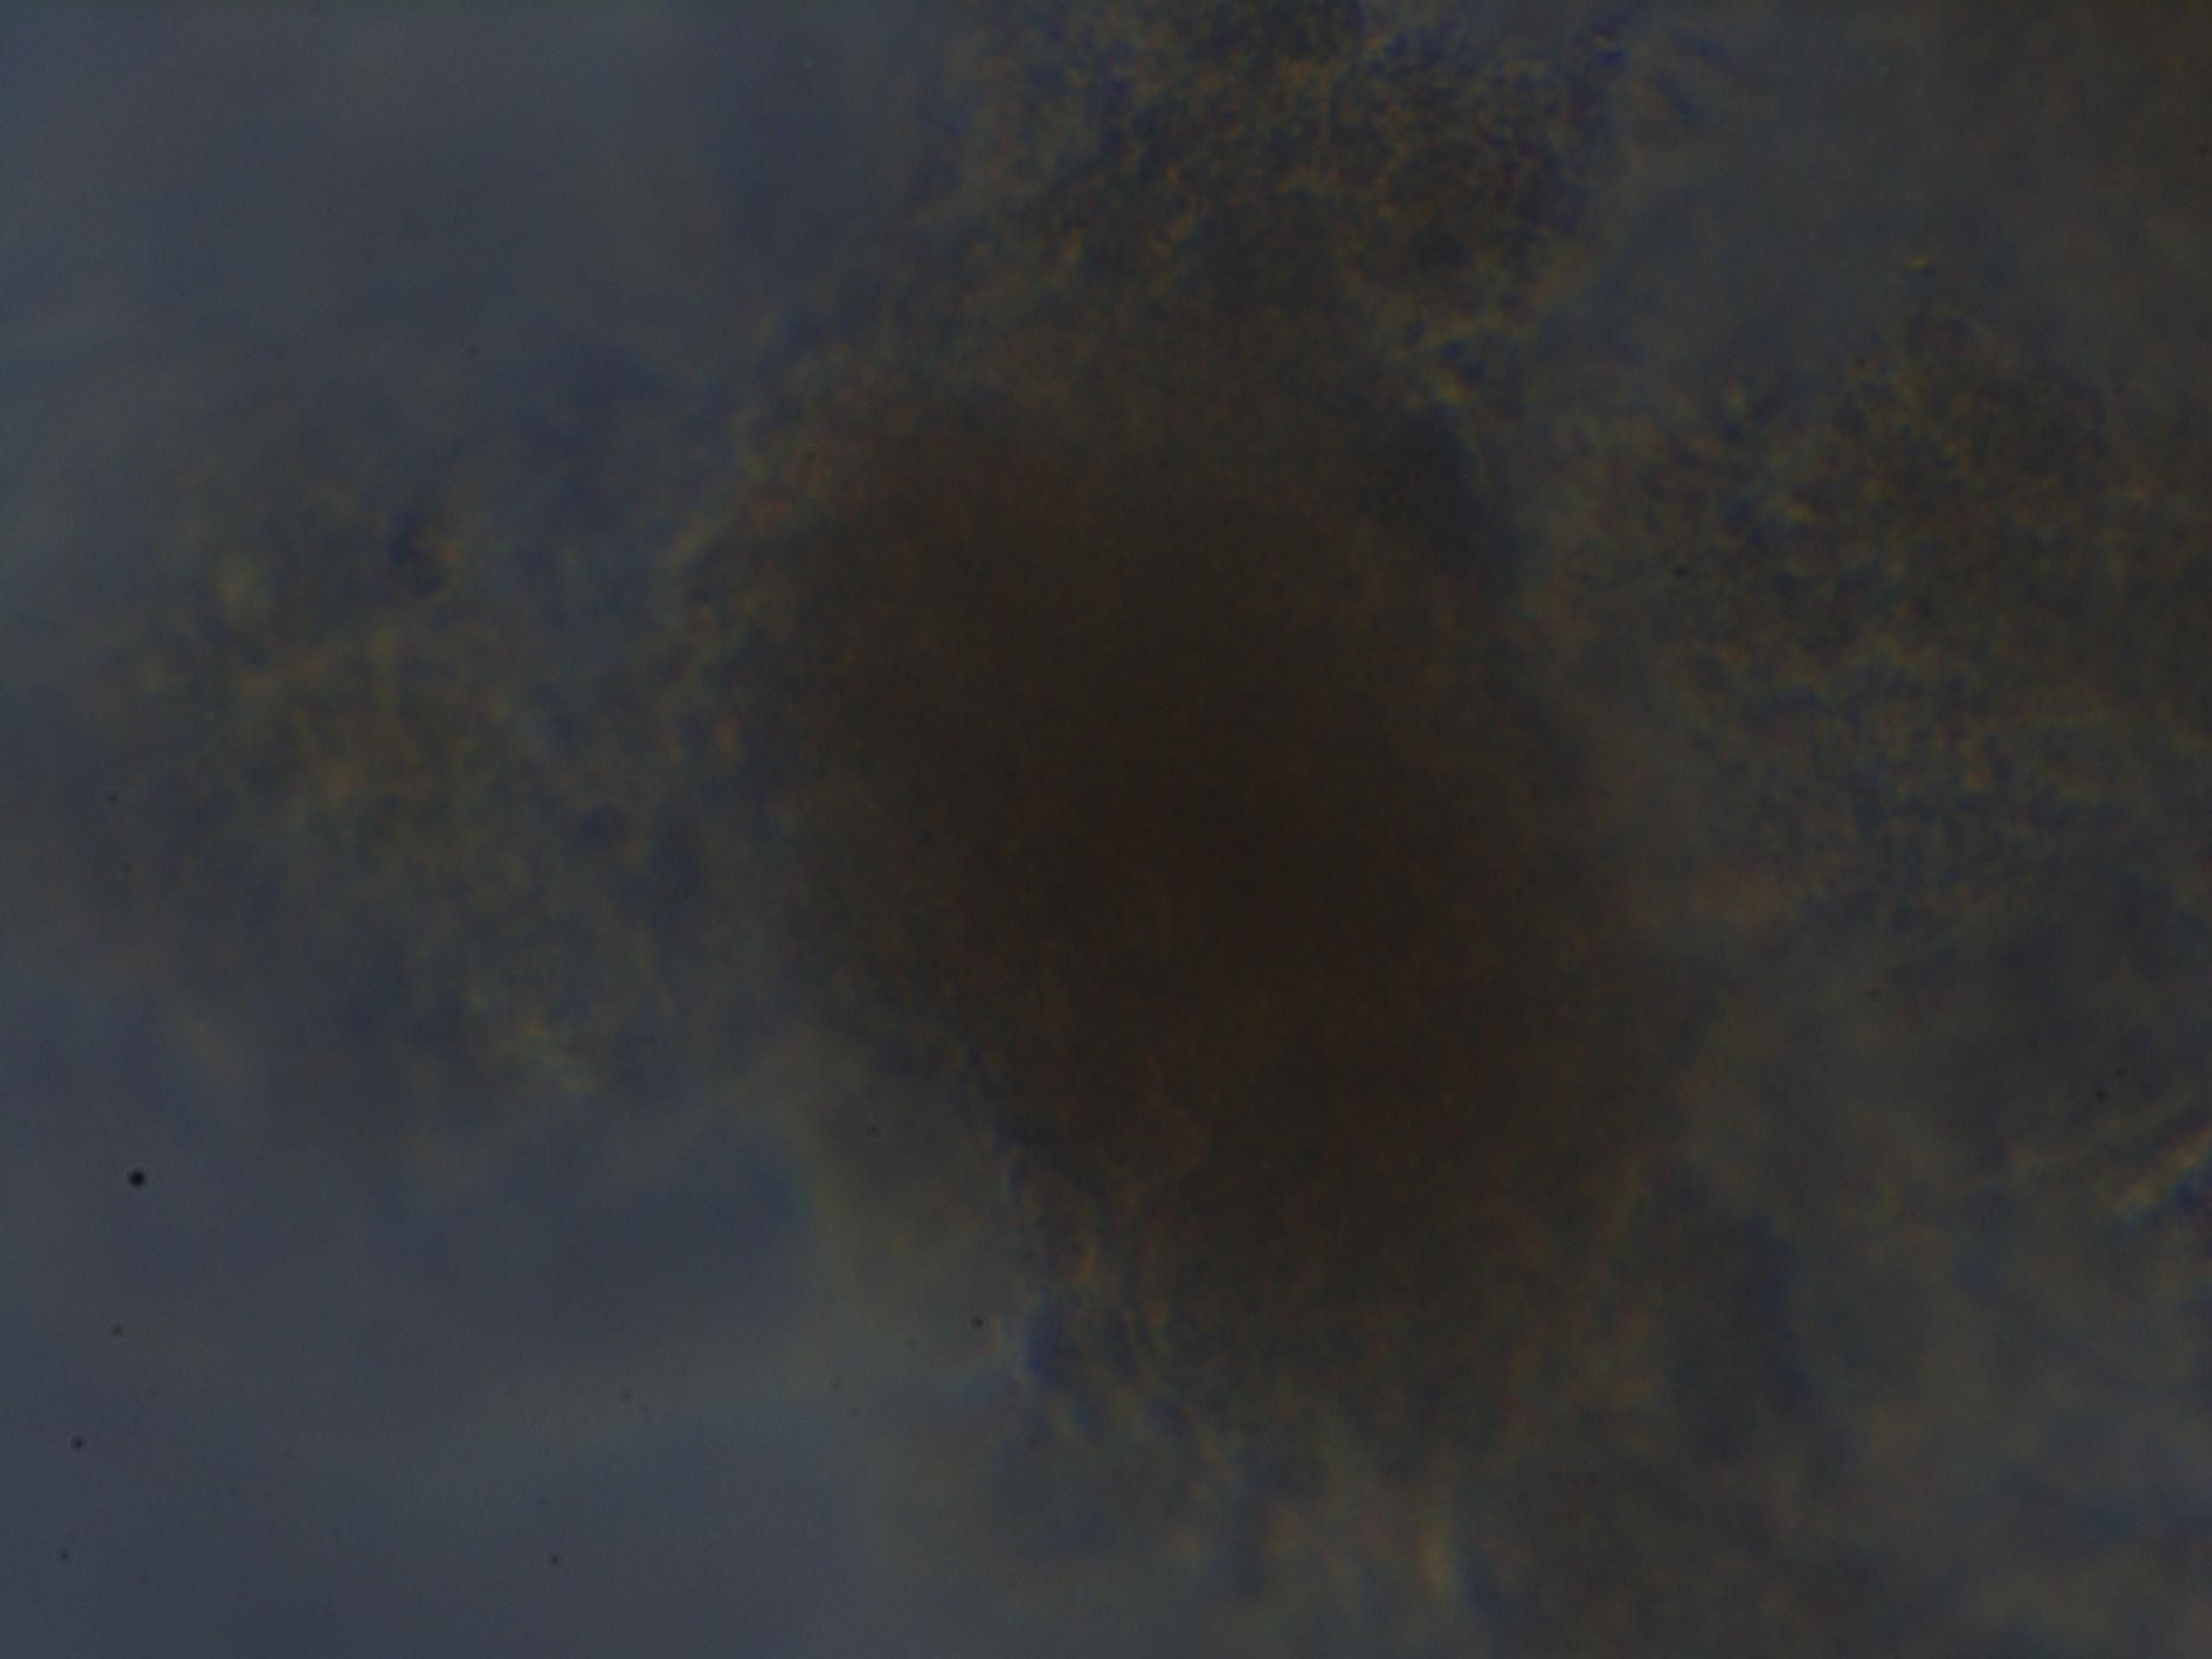spherical_floc: (714, 288, 1728, 1486)
